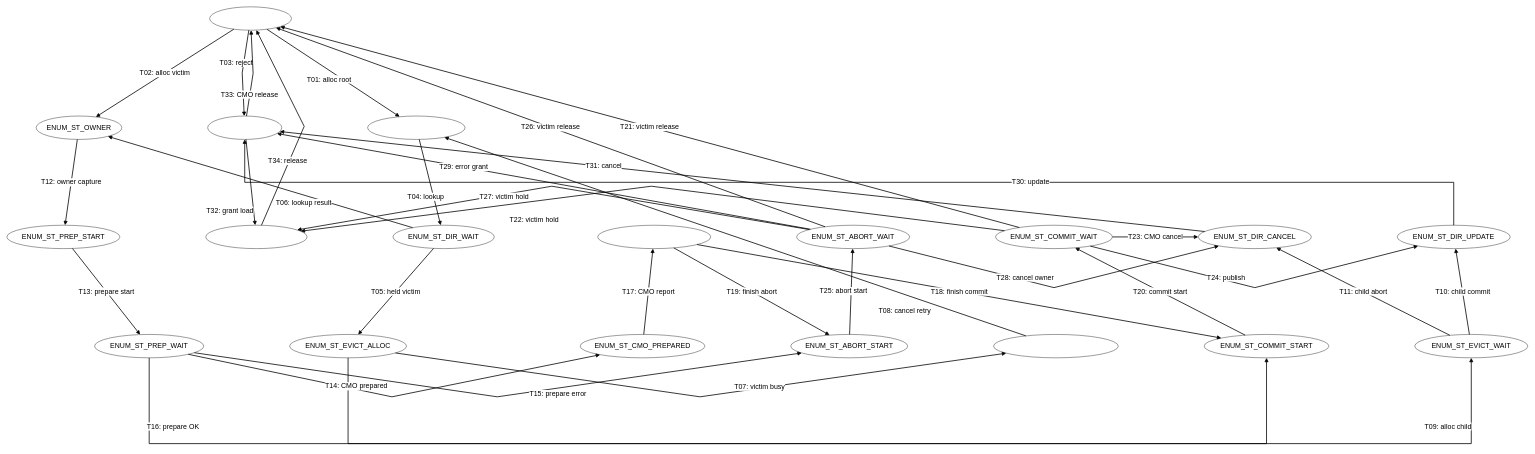
Image size: 1535x454. Some labels were removed from this diagram. Each missing label, with the centre of its shape:
ENUM_ST_CMO_FINISH: point (654, 237)
ENUM_ST_DIR_REQ: point (416, 127)
ENUM_ST_GNT: point (244, 127)
ENUM_ST_GNT_WAIT: point (256, 237)
ENUM_ST_IDLE: point (250, 18)
ENUM_ST_RETRY_CANCEL: point (1055, 346)
